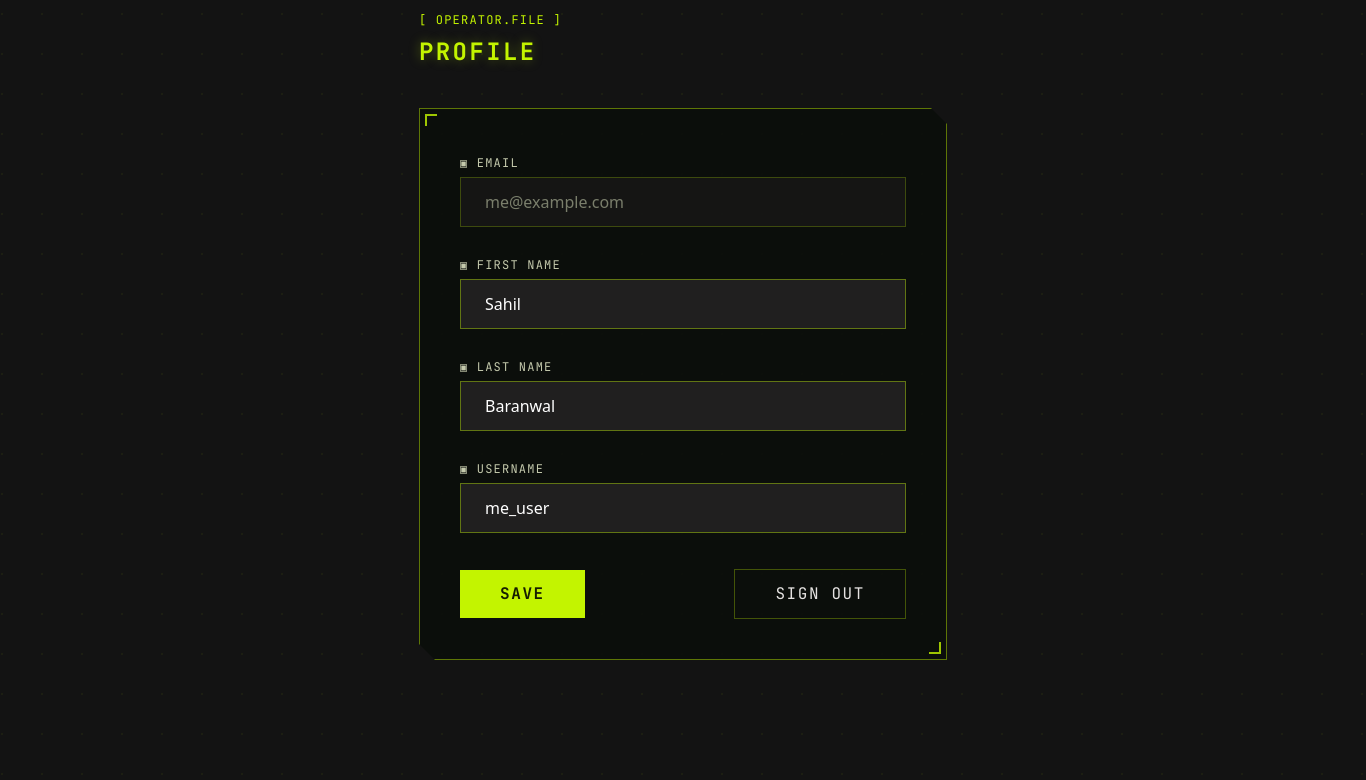
Profile route › shows error when update rejects
Replace the text in the field labelled "USERNAME" with "taken": (683,508) [460,483,906,533]
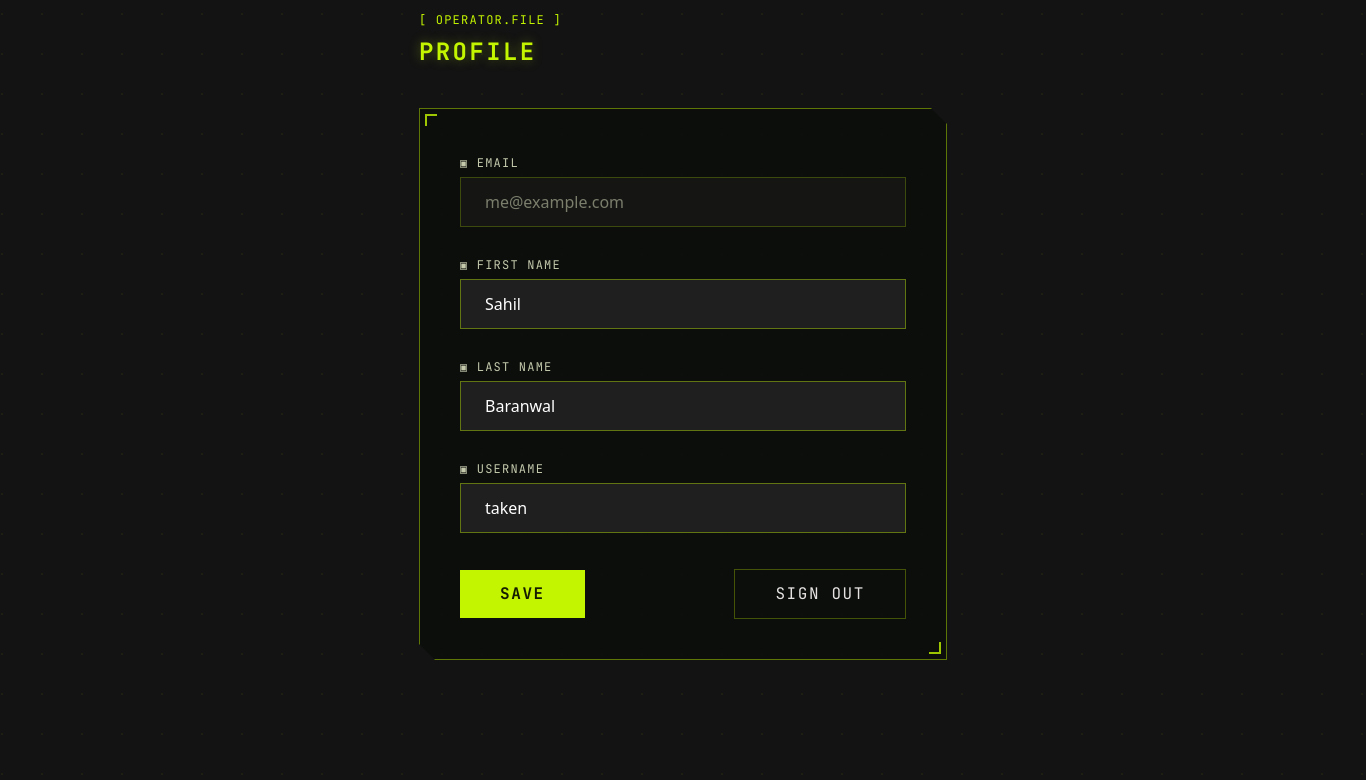
Click the button "SAVE": (522,594) [460,570,585,618]
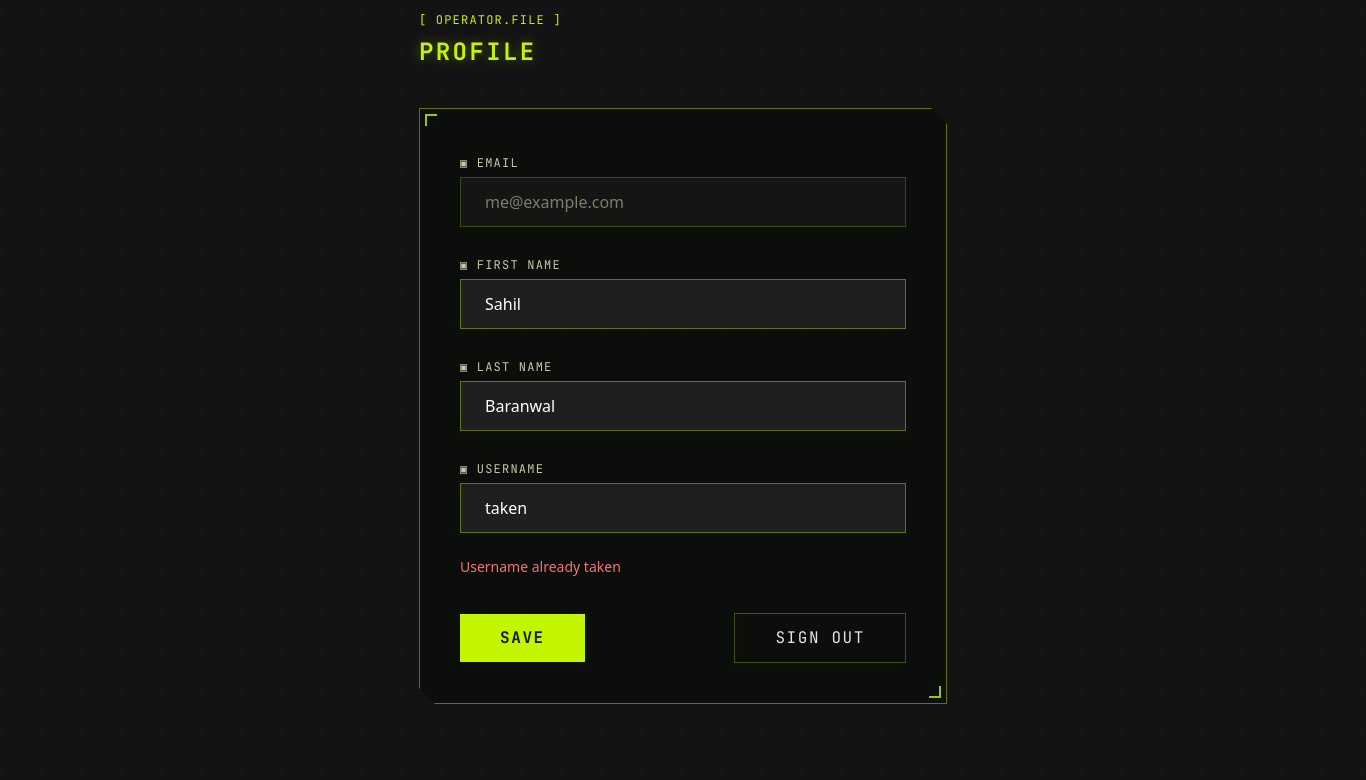
Check: the message reads "Username already taken", box [460,557,621,576]
